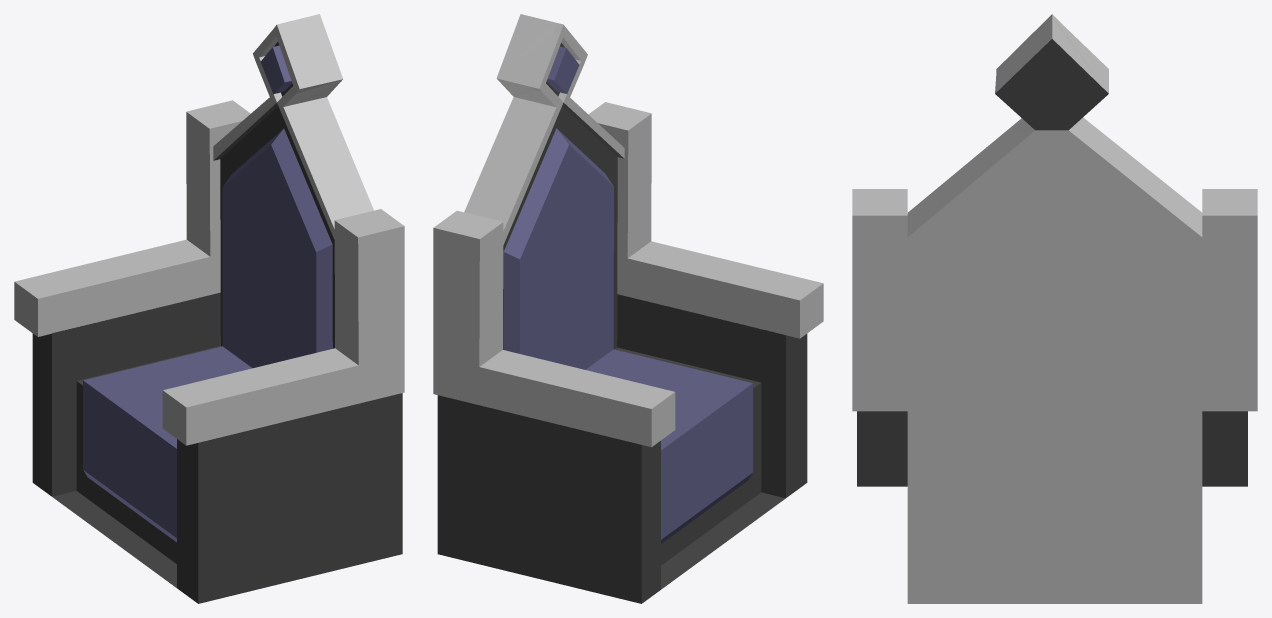
The model's file is Dest_Palace_Throne.FBX.
The picture shows the model from 3 angles, left to right: view 1: azimuth 30°, elevation 25°; view 2: azimuth 150°, elevation 25°; view 3: azimuth 270°, elevation 25°; orthographic projection. The views are drawn at different scales.
Parts seen in each view (by area): view 1: Box001; view 2: Box001; view 3: Box001.
Boxes of the visible parts, left/top/right/bottom form: Box001: left=14, top=14, right=404, bottom=603; Box001: left=433, top=14, right=823, bottom=603; Box001: left=852, top=14, right=1257, bottom=603.
Size of the model in its own units: 124 by 260 by 169.
